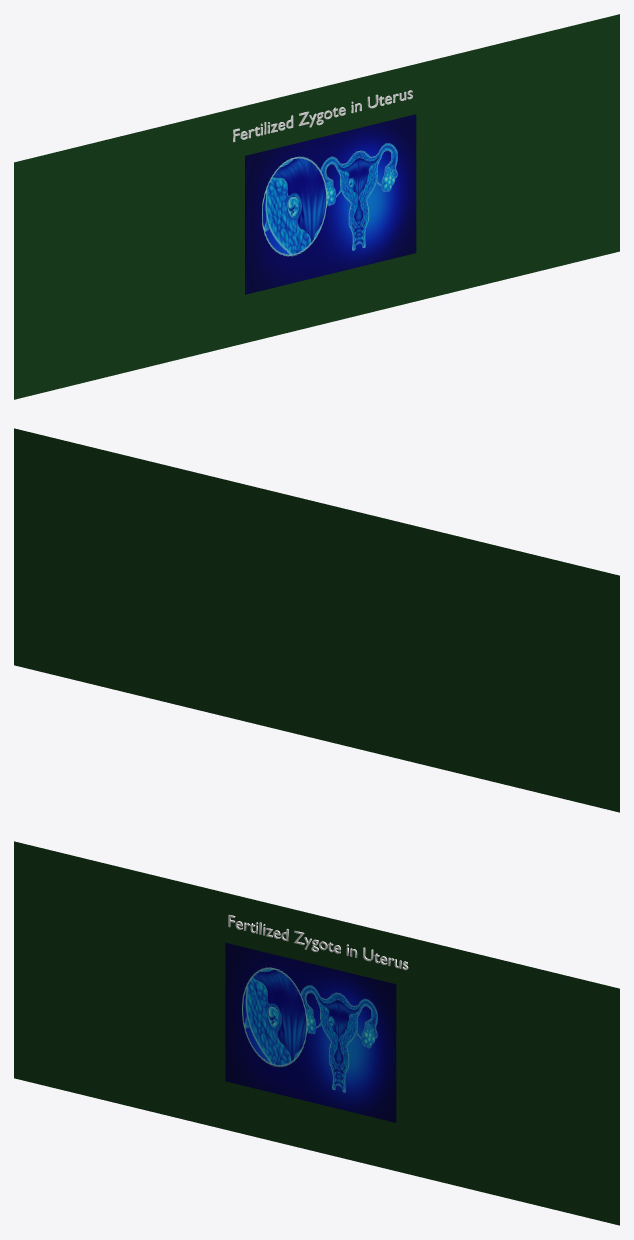
The model's file is extra.gltf.
3 views of the same model, one above another, from view 1: azimuth 30°, elevation 25°; view 2: azimuth 150°, elevation 25°; view 3: azimuth 330°, elevation 25° (orthographic).
Parts seen in each view (by area): view 1: Plane.013, Plane, Text.001; view 2: Plane.013; view 3: Plane.013, Plane, Text.001.
Part boxes in pixels (x1,y1,x2,y2): Plane.013: (14,14,619,399); Plane: (245,114,416,294); Text.001: (233,90,412,141); Plane.013: (14,428,619,812); Plane.013: (14,841,619,1225); Plane: (225,942,396,1122); Text.001: (228,914,408,970).
Size of the model in its own units: 15.94 by 5.96 by 0.464.
3 materials, 1 textured.
